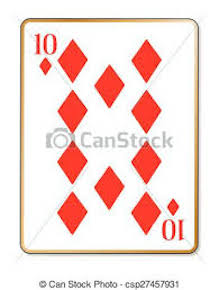TenOfDiamonds: (15, 18, 200, 257)
